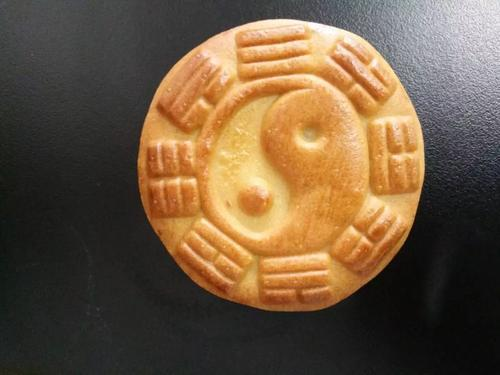MoonCake: (135, 16, 425, 312)
